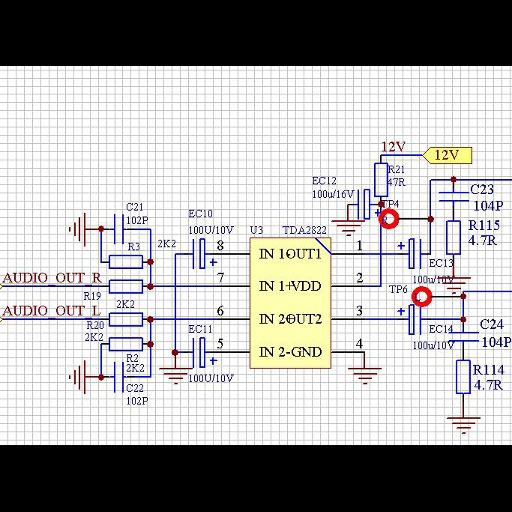capacitor: (437, 187, 471, 207), (107, 211, 126, 245), (448, 328, 481, 347), (109, 360, 126, 396)
firstpolarcapacitor: (352, 185, 379, 221)
firstresistance: (451, 357, 472, 399), (441, 216, 463, 255), (107, 309, 145, 330), (106, 333, 145, 353), (105, 278, 145, 297), (105, 253, 145, 271), (371, 160, 389, 199)
gnd: (62, 209, 88, 249), (64, 355, 87, 397), (343, 366, 386, 387), (442, 414, 484, 434), (154, 366, 189, 385)
secondpolarcapacitor: (188, 236, 218, 271), (188, 335, 219, 368), (393, 304, 424, 337), (395, 235, 424, 270)
